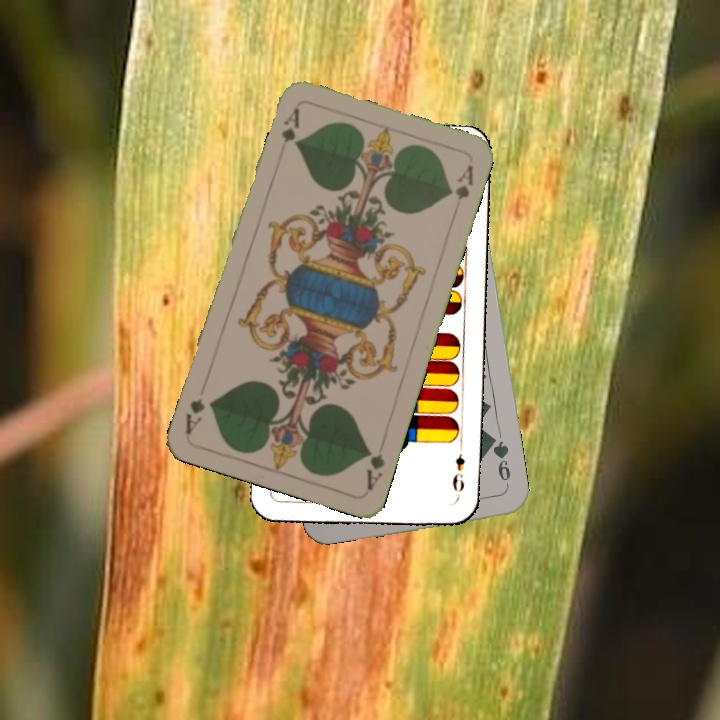E9: (448, 441, 467, 500)
G9: (487, 433, 513, 492)
GA: (274, 104, 302, 160), (362, 444, 388, 493)
